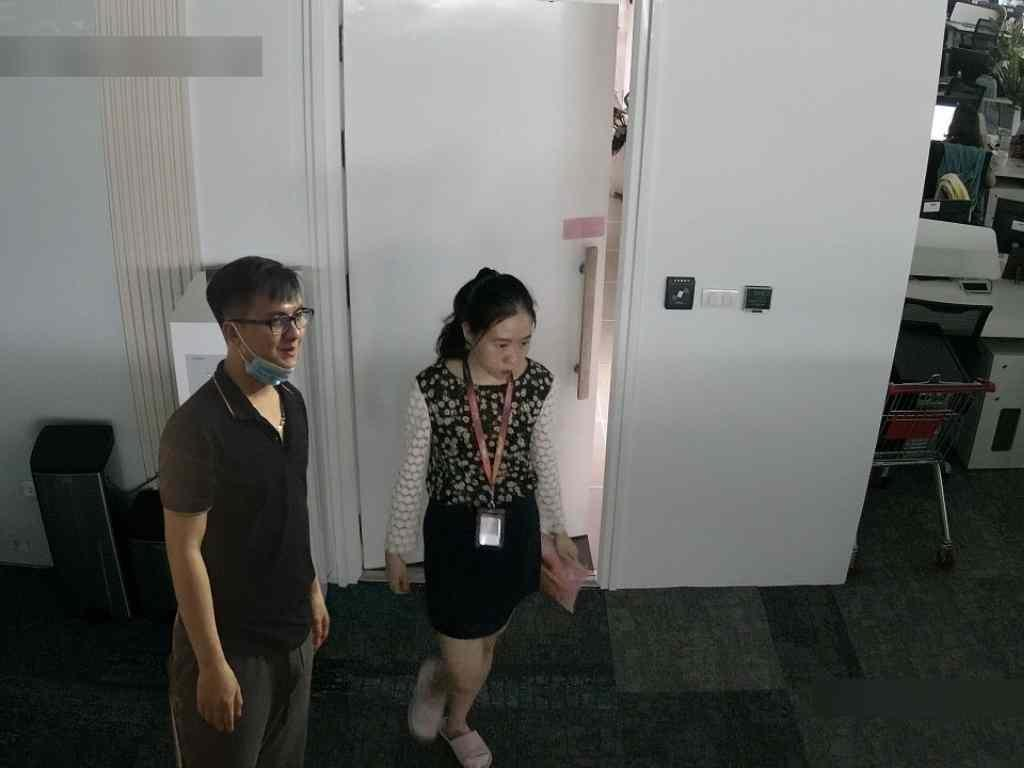no_apron: (413, 251, 562, 373), (184, 641, 278, 738), (291, 558, 364, 660), (361, 531, 452, 610)
no_hairnet: (235, 282, 313, 384), (467, 299, 536, 382)
